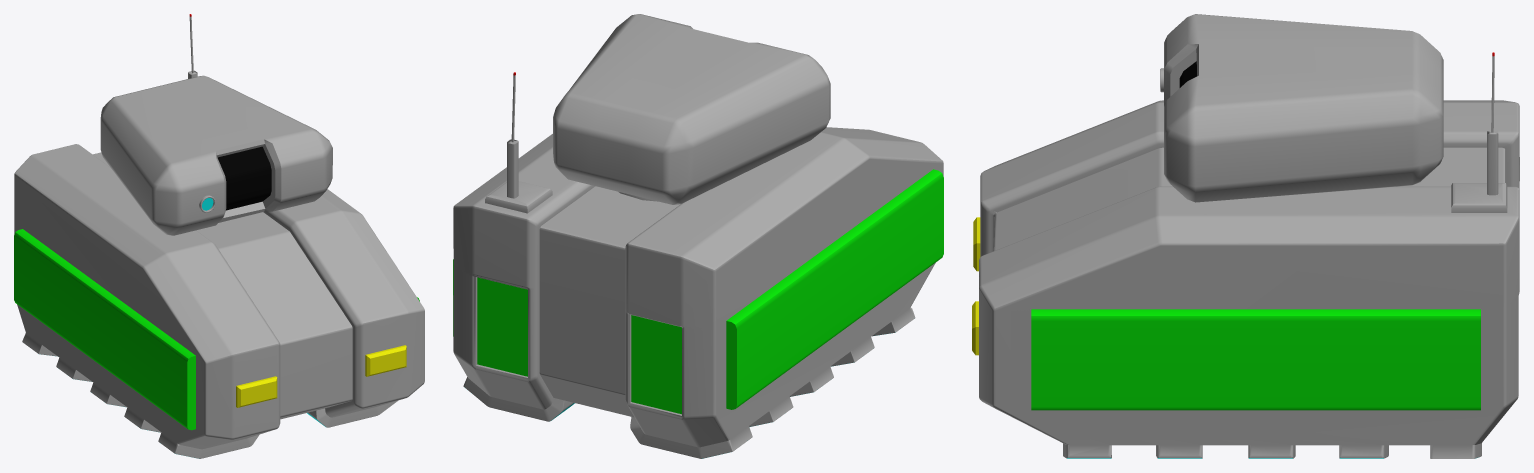
File: EnemyTank.fbx
3 views of the same model, side by side, from view 1: azimuth 30°, elevation 25°; view 2: azimuth 150°, elevation 25°; view 3: azimuth 270°, elevation 25° (orthographic). The views are drawn at different scales.
Parts seen in each view (by area): view 1: TankBase, Turret; view 2: TankBase, Turret; view 3: TankBase, Turret.
Part boxes in pixels (bbox=[...]): TankBase: bbox=[14, 14, 424, 458]; Turret: bbox=[100, 75, 332, 235]; TankBase: bbox=[453, 72, 943, 458]; Turret: bbox=[553, 14, 830, 205]; TankBase: bbox=[972, 52, 1519, 458]; Turret: bbox=[1160, 14, 1443, 202].
Size of the model in its own units: 1.32 by 1.54 by 1.98.
